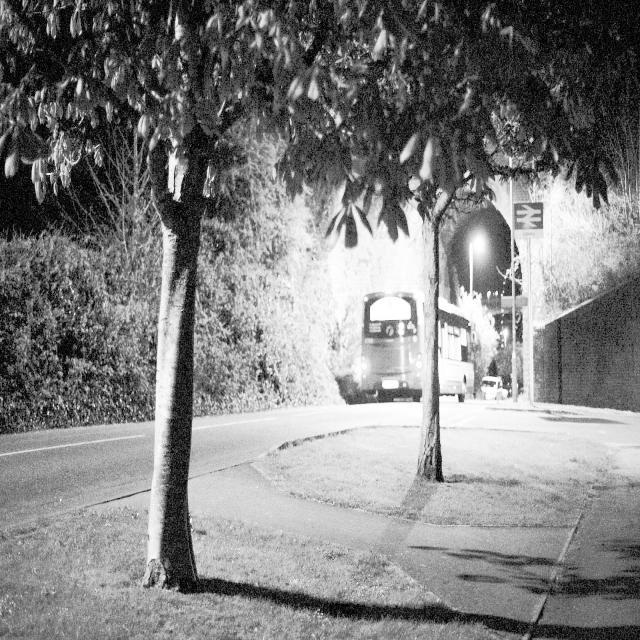Bus: (339, 272, 487, 405)
